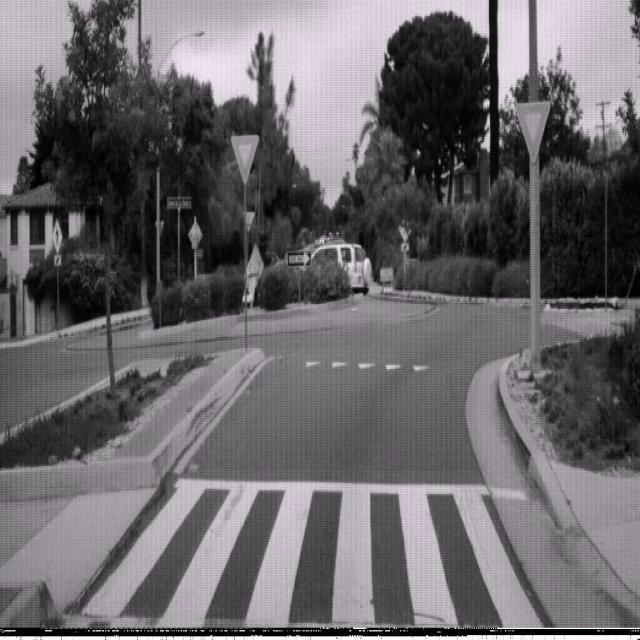yield: (516, 98, 551, 163), (230, 133, 258, 185)
